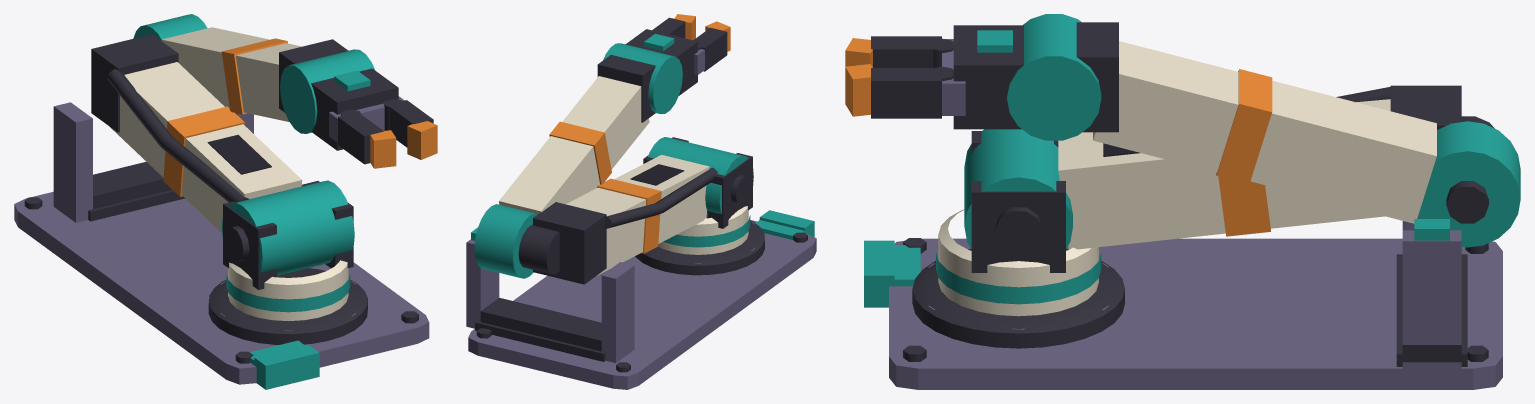
Rendered from robotic_arm.glb.
3 renders of one model, left to right at view 1: azimuth 30°, elevation 25°; view 2: azimuth 150°, elevation 25°; view 3: azimuth 270°, elevation 25°, orthographic. The views are drawn at different scales.
Visible parts, largest first — view 1: base_PurpleGrey, upper_arm_CreamHull, base_Graphite, upper_arm_Teal, upper_arm_Graphite, forearm_CreamHull, wrist_Teal, turret_CreamHull, wrist_Graphite, turret_Graphite, base_Teal, upper_arm_Orange (+10 smaller); view 2: base_PurpleGrey, forearm_CreamHull, base_Graphite, upper_arm_Graphite, upper_arm_CreamHull, forearm_Graphite, forearm_Teal, wrist_Teal, upper_arm_Teal, turret_CreamHull, turret_Graphite, wrist_Graphite (+8 smaller); view 3: base_PurpleGrey, forearm_CreamHull, upper_arm_CreamHull, base_Graphite, wrist_Teal, forearm_Teal, turret_Graphite, upper_arm_Teal, turret_CreamHull, wrist_Graphite, forearm_Graphite, upper_arm_Graphite (+9 smaller).
Part boxes in pixels (<box>): base_PurpleGrey: <box>14,102,429,384</box>; upper_arm_CreamHull: <box>109,62,302,232</box>; base_Graphite: <box>24,161,418,363</box>; upper_arm_Teal: <box>222,180,354,275</box>; upper_arm_Graphite: <box>91,34,249,261</box>; forearm_CreamHull: <box>161,27,301,121</box>; wrist_Teal: <box>280,49,374,133</box>; turret_CreamHull: <box>228,260,348,320</box>; wrist_Graphite: <box>311,68,398,150</box>; turret_Graphite: <box>223,181,353,289</box>; base_Teal: <box>250,340,319,389</box>; upper_arm_Orange: <box>163,106,244,196</box>; base_PurpleGrey: <box>466,220,816,389</box>; forearm_CreamHull: <box>499,76,649,213</box>; base_Graphite: <box>475,217,807,372</box>; upper_arm_Graphite: <box>533,167,750,284</box>; upper_arm_CreamHull: <box>566,155,709,275</box>; forearm_Graphite: <box>518,55,655,274</box>; forearm_Teal: <box>474,204,537,278</box>; wrist_Teal: <box>603,33,682,114</box>; upper_arm_Teal: <box>648,137,753,216</box>; turret_CreamHull: <box>658,206,748,254</box>; turret_Graphite: <box>643,137,752,228</box>; wrist_Graphite: <box>626,29,697,95</box>; base_PurpleGrey: <box>889,216,1502,389</box>; forearm_CreamHull: <box>1093,41,1436,223</box>; upper_arm_CreamHull: <box>1058,99,1390,249</box>; base_Graphite: <box>903,238,1488,366</box>; wrist_Teal: <box>977,14,1101,140</box>; forearm_Teal: <box>1418,121,1520,247</box>; turret_Graphite: <box>971,131,1065,272</box>; upper_arm_Teal: <box>964,129,1072,249</box>; turret_CreamHull: <box>938,209,1098,316</box>; wrist_Graphite: <box>953,25,1023,129</box>; forearm_Graphite: <box>1076,22,1494,223</box>; upper_arm_Graphite: <box>995,85,1461,251</box>.
Size of the model in its own units: 0.273 by 0.3044 by 0.5719.
